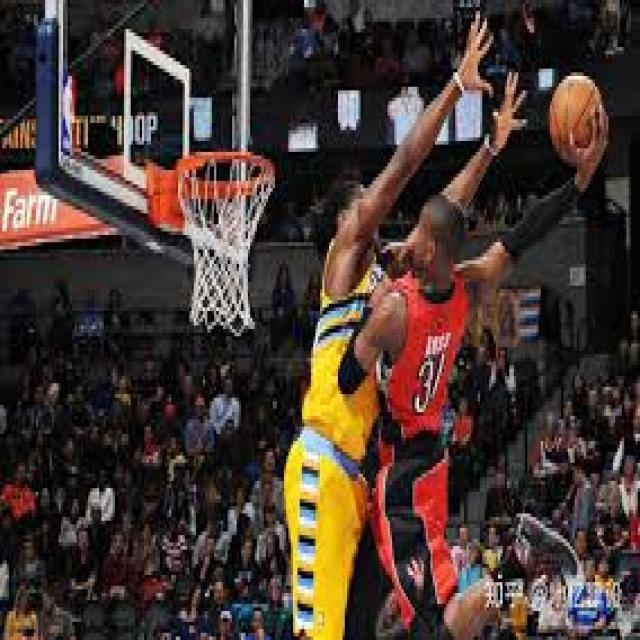rim: (548, 76, 602, 159)
